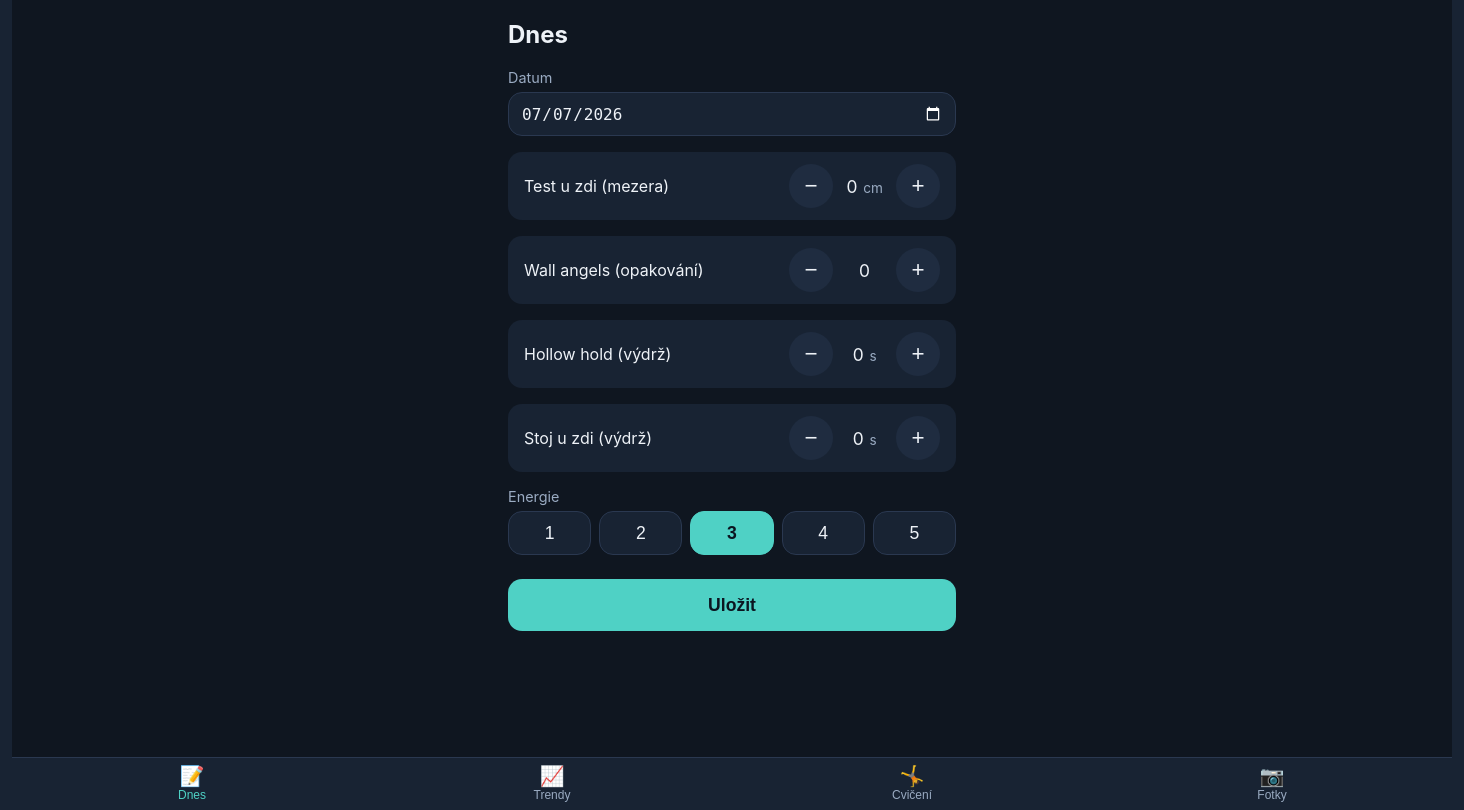
Test case: App › saves a Dnes entry and reflects it as the current value on Trendy
// wallAngels stepper: click + a few times, then save.
Click the button named "Zvýšit Wall angels (opakování)". click: {"x": 918, "y": 270}
box: x1=896 y1=248 x2=940 y2=292
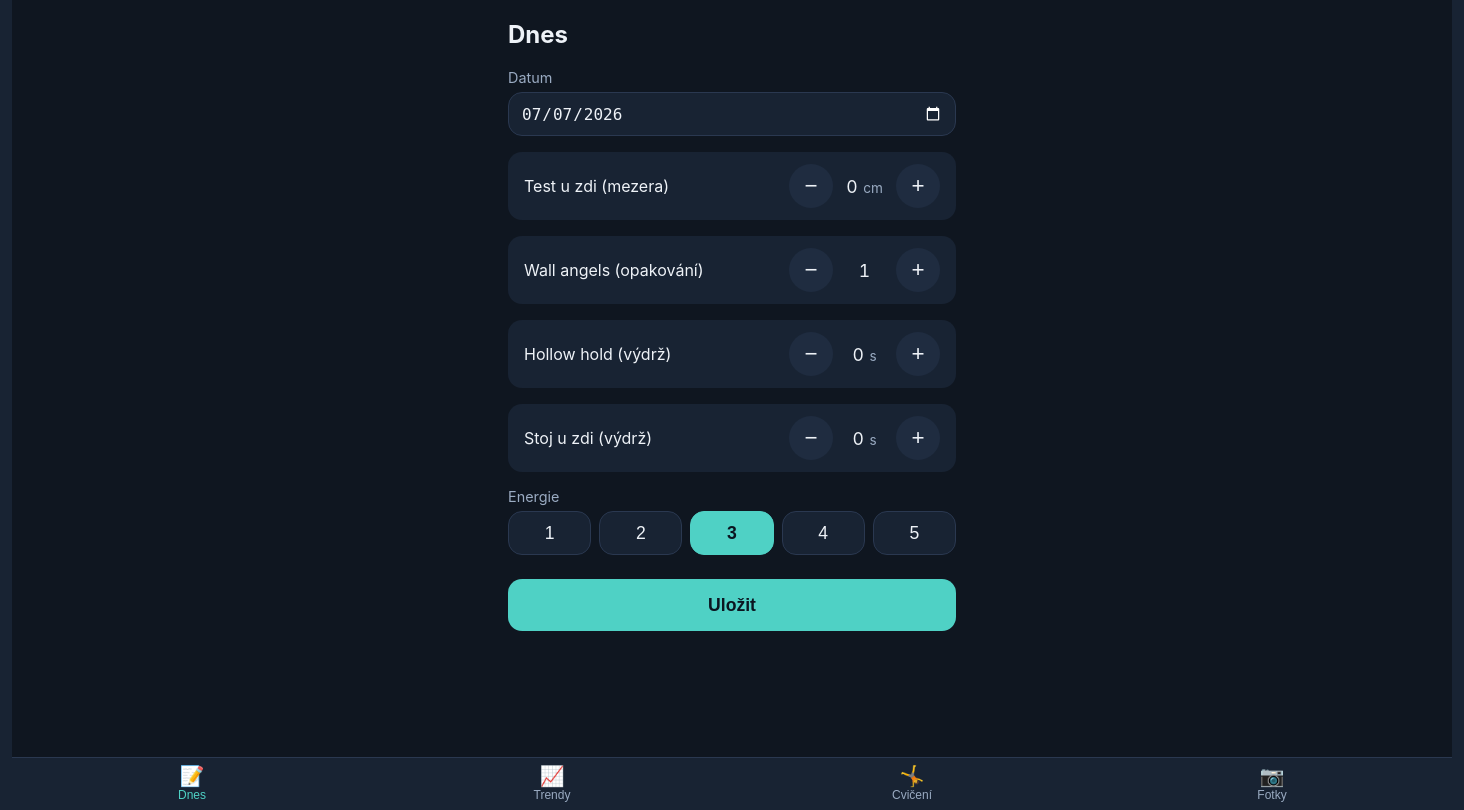
Click the button named "Zvýšit Wall angels (opakování)". click: {"x": 918, "y": 270}
box: x1=896 y1=248 x2=940 y2=292
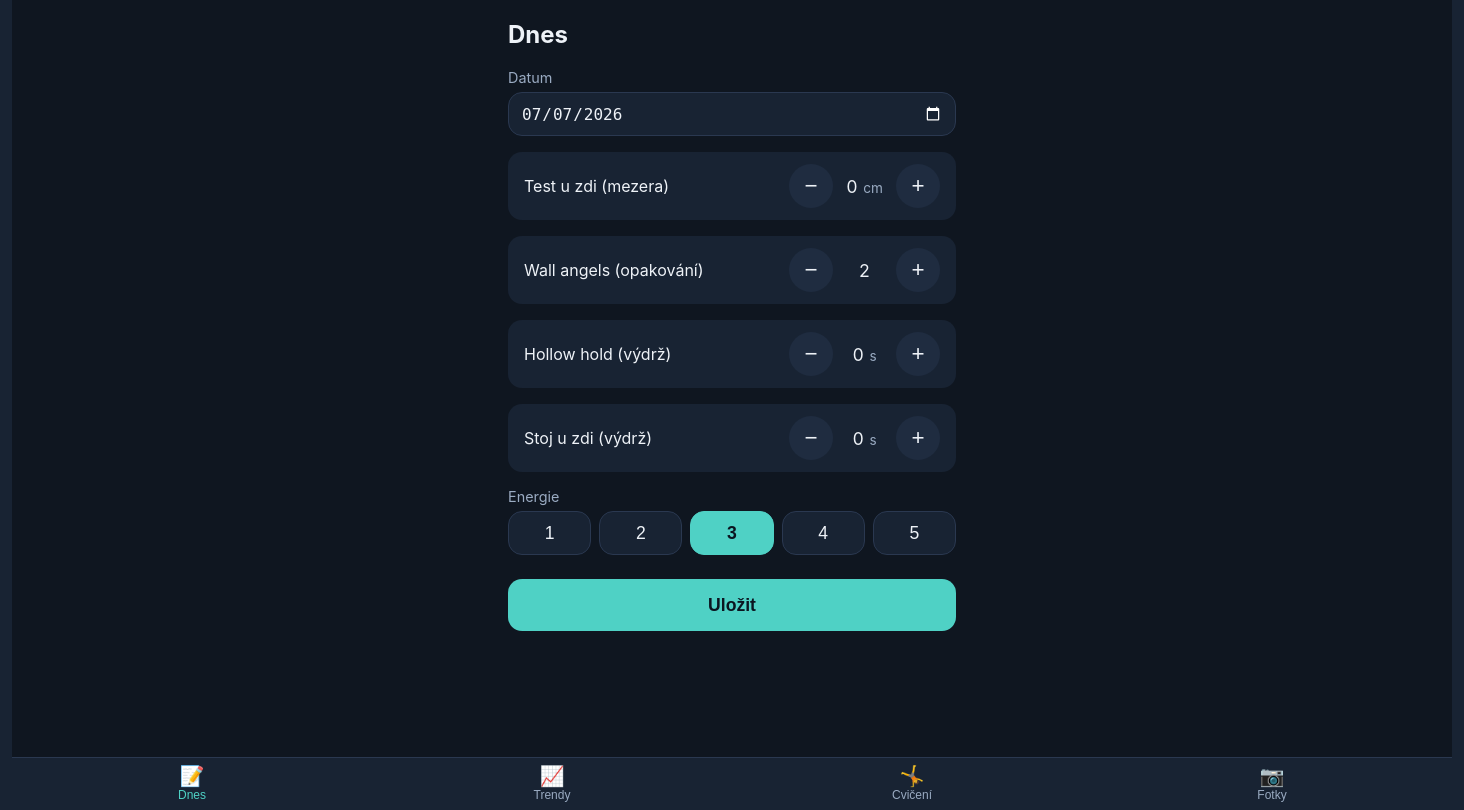
Click the button "Uložit". click: {"x": 732, "y": 605}
box: x1=508 y1=579 x2=956 y2=631
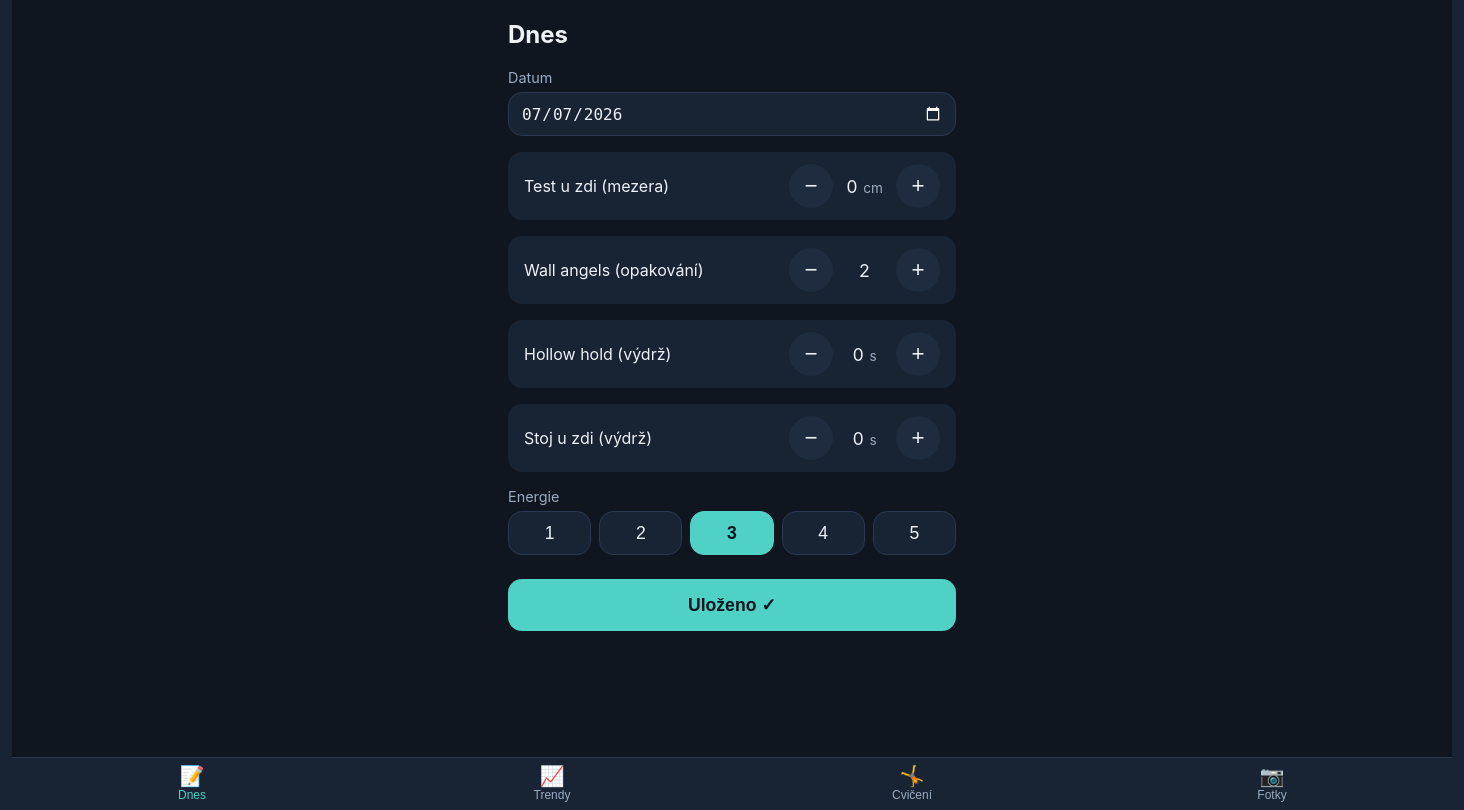
Click the button "📈 Trendy". click: {"x": 552, "y": 784}
box: x1=372 y1=758 x2=732 y2=809
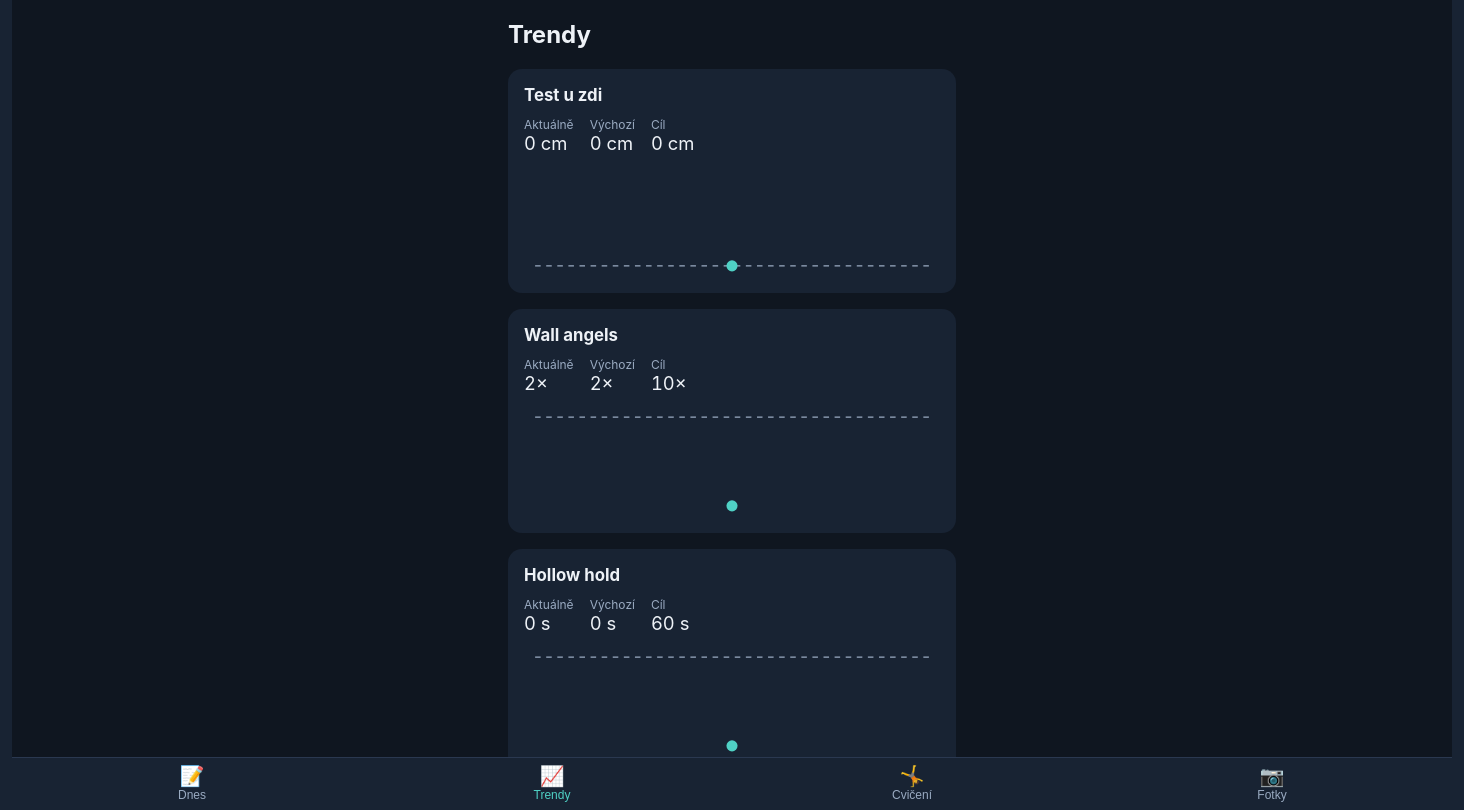
expect the text "Wall angels" shows "2×": met, box x1=524 y1=372 x2=548 y2=394
